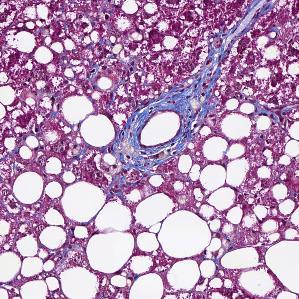fibrosis: (155, 71, 224, 111), (109, 147, 182, 183)
